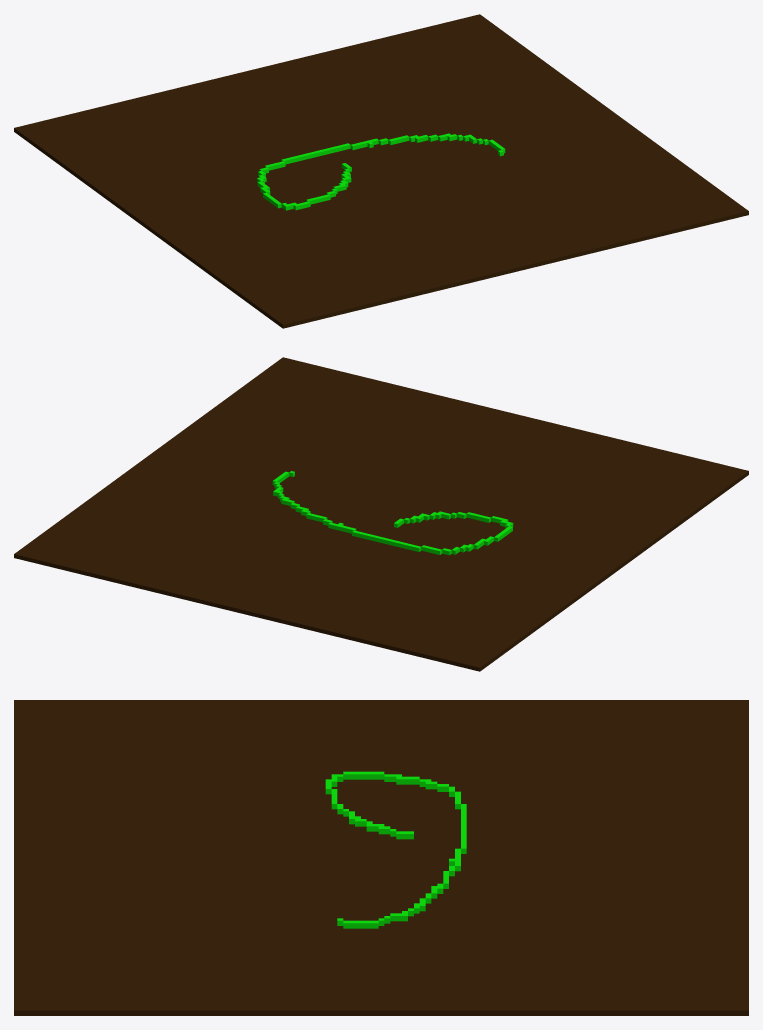
File: Level01-5.obj
3 views of the same model, one above another, from view 1: azimuth 30°, elevation 25°; view 2: azimuth 150°, elevation 25°; view 3: azimuth 270°, elevation 25° (orthographic). The views are drawn at different scales.
Visible parts, largest first — view 1: Level01-5; view 2: Level01-5; view 3: Level01-5.
Boxes of the visible parts, x1,y1,x2,y2 form: Level01-5: [14, 14, 748, 328]; Level01-5: [14, 357, 748, 671]; Level01-5: [14, 700, 748, 1015].
Size of the model in its own units: 125 by 2 by 125.
1 material, 1 textured.
